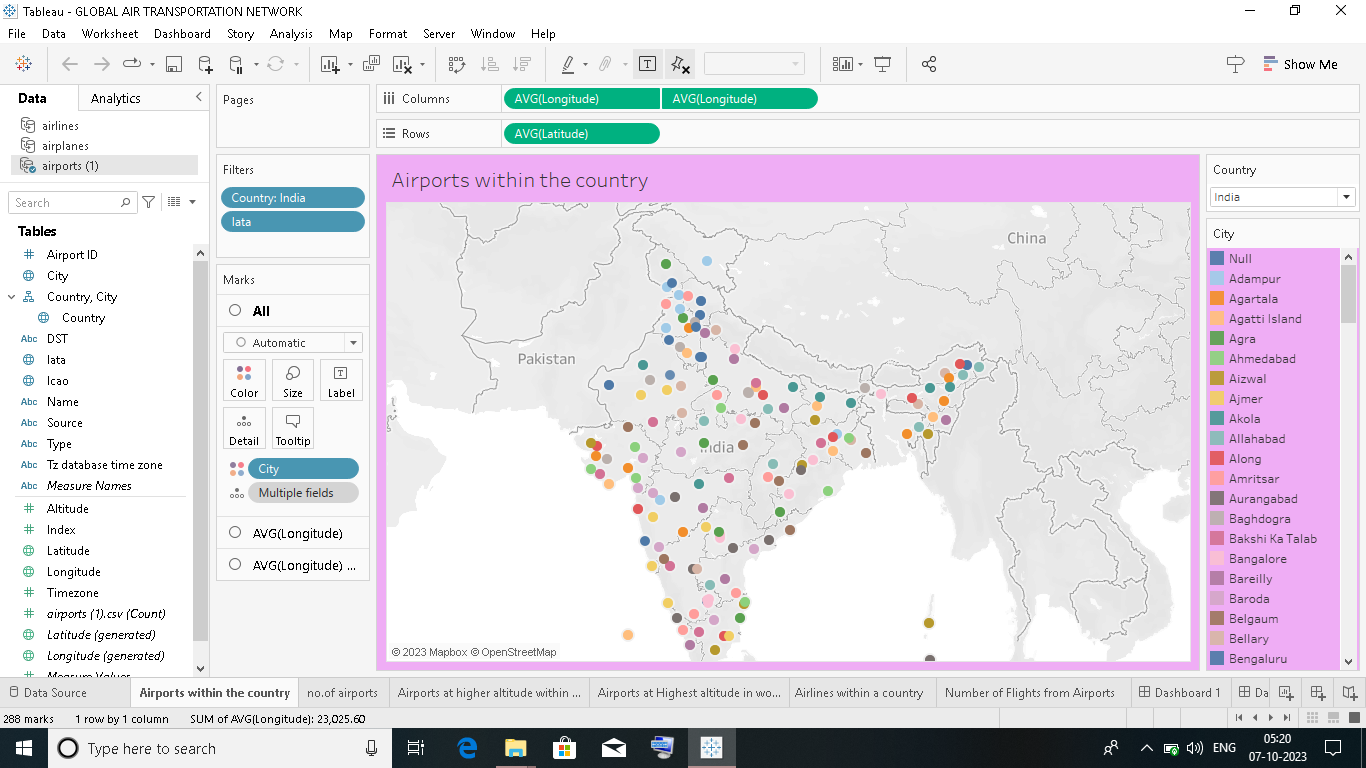

What the dashboard file says about the page in this screenshot:
{"tool":"tableau","page":{"name":"Dashboard 1","canvas":[1000,800],"ordinal":0},"visuals":[{"type":"worksheet","title":" Airports within the country","mark":"Automatic","rows":["Latitude"],"cols":["Longitude","Longitude"],"box":[8,8,824,784]},{"type":"filter","title":" Airports within the country","param":"[federated.1a1zrgq1lutcvu1c68p7n0bjfrti].[none:Country:nk]","box":[832,8,160,52]},{"type":"legend","title":" Airports within the country","param":"[federated.1a1zrgq1lutcvu1c68p7n0bjfrti].[none:City:nk]","box":[832,60,160,732]}]}

Visuals, with their boxes on the page's 1000x800 design canvas (x1, y1, x2, y2). These are canvas units, not pixel positions in the 1366x768 screenshot, which may show the page scaled, cropped or inside an application window:
" Airports within the country" worksheet: bbox(8, 8, 832, 792)
" Airports within the country" filter: bbox(832, 8, 992, 60)
" Airports within the country" legend: bbox(832, 60, 992, 792)
